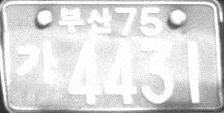1: (184, 38, 204, 106)
3: (139, 38, 175, 105)
4: (66, 37, 104, 106), (101, 37, 139, 105)
5: (139, 5, 163, 38)
7: (113, 5, 139, 36)
가: (14, 38, 60, 87)
부산_O: (58, 5, 113, 36)
